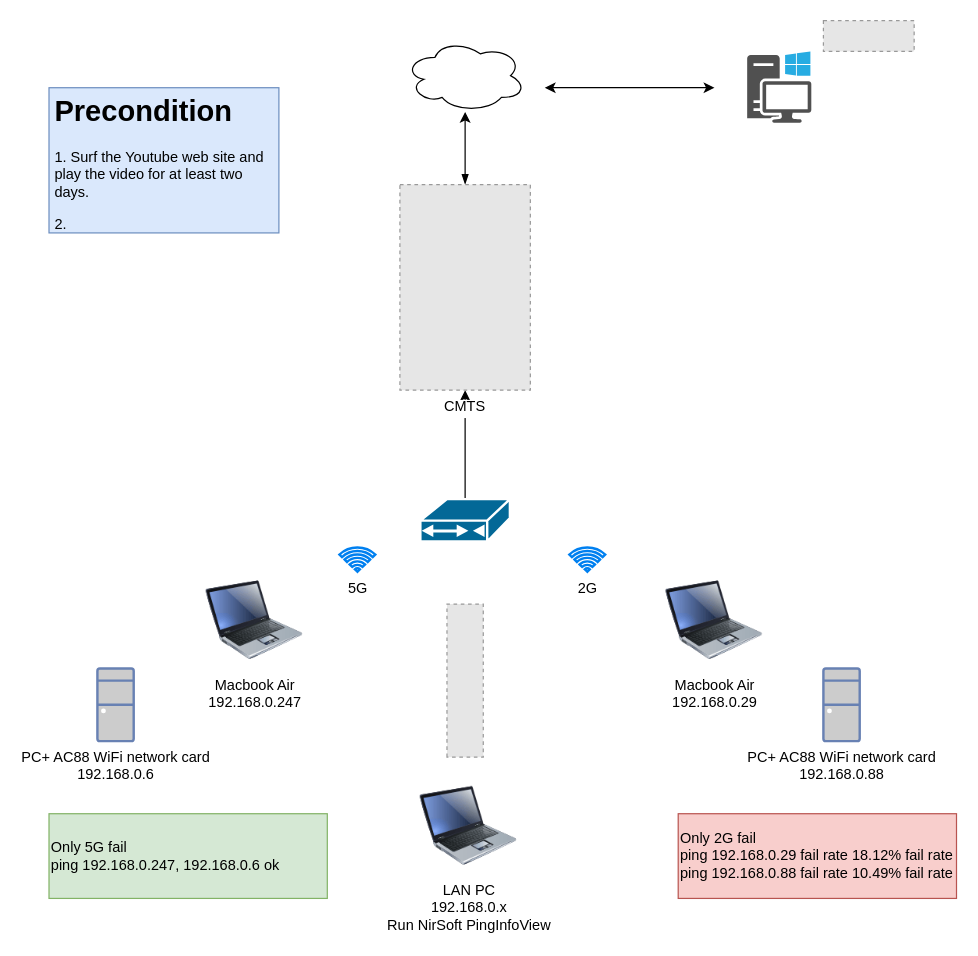
This 978x956 diagram has some shape labels left out. Grey dashed boxes stand in for pictures. Here are the shapes that lost their labels. From the top down, the centre of each, then its label:
point 464,75: Cloud
point 464,519: CH8679G
